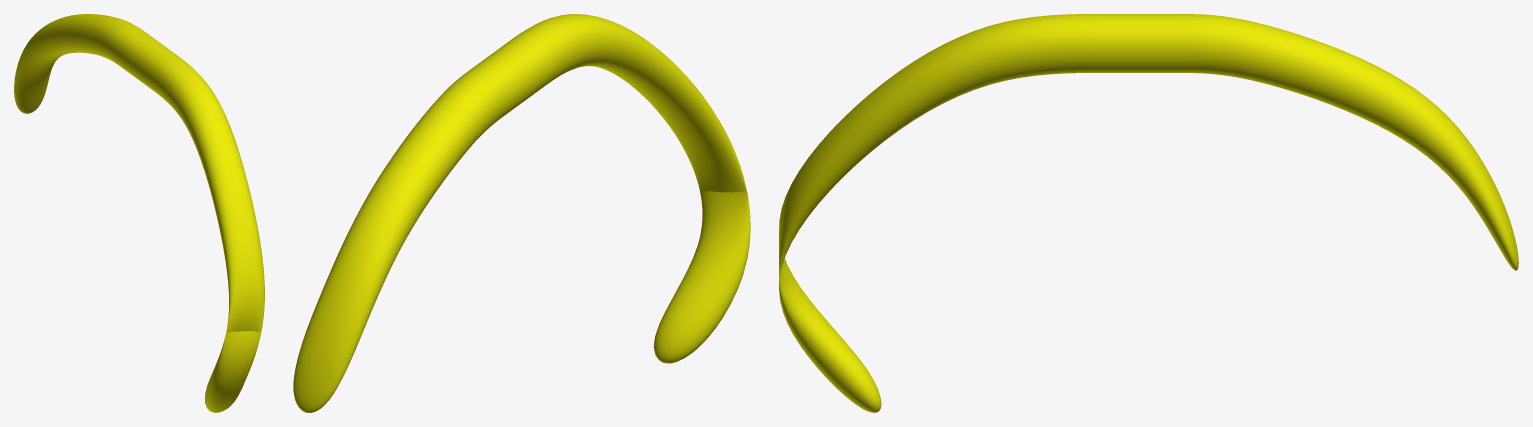
File: epididimio_lado_izquierdo.fbx
3 views of the same model, side by side, from view 1: azimuth 30°, elevation 25°; view 2: azimuth 150°, elevation 25°; view 3: azimuth 270°, elevation 25° (orthographic). The views are drawn at different scales.
Visible parts, largest first — view 1: Cube_007; view 2: Cube_007; view 3: Cube_007.
Part boxes in pixels (x1,y1,x2,y2): Cube_007: [14, 14, 264, 412]; Cube_007: [293, 14, 750, 412]; Cube_007: [779, 14, 1518, 412].
Bounding box in the file's own units: 0.537 × 1.79 × 2.92.
